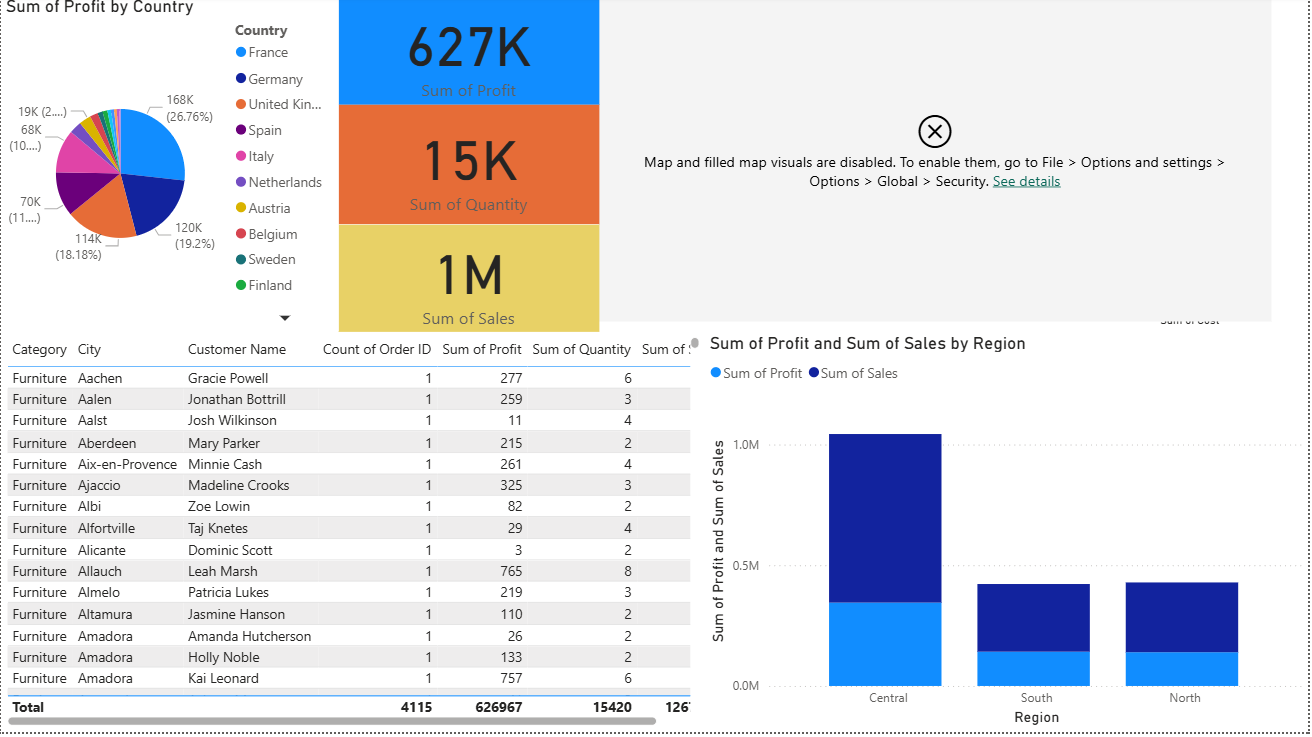

This screenshot's page, from the dashboard's own definition file:
{"tool":"powerbi","page":{"name":"Page 1","canvas":[1280,720],"ordinal":0},"visuals":[{"type":"barChart","fields":{"Category":["List of Orders.City"],"Y":["List of Orders.Cost"]},"box":[1021.7,0,221.7,328.3],"z":0},{"type":"tableEx","fields":{"Values":["List of Orders.Category","List of Orders.City","List of Orders.Customer Name","List of Orders.Order ID","List of Orders.Profit","List of Orders.Quantity","List of Orders.Sales"]},"box":[0,328.3,688.3,390],"z":1000},{"type":"map","fields":{"Category":["List of Orders.City"],"Series":["List of Orders.Country"]},"box":[585,0,658.3,318.3],"z":2000},{"type":"card","fields":{"Values":["List of Orders.Profit"]},"box":[330,0,255,106.7],"z":3000},{"type":"card","fields":{"Values":["List of Orders.Quantity"]},"box":[330,106.7,255,116.7],"z":4000},{"type":"card","fields":{"Values":["List of Orders.Sales"]},"box":[330,223.3,255,105],"z":5000},{"type":"columnChart","fields":{"Y":["List of Orders.Profit","List of Orders.Sales"],"Category":["List of Orders.Region"]},"box":[688.3,328.3,591.7,390],"z":6000},{"type":"pieChart","fields":{"Category":["List of Orders.Country"],"Y":["List of Orders.Profit"]},"box":[0,0,330,328.3],"z":7000}]}

Visuals, with their boxes in screenshot pixels (x1, y1, x2, y2), scaled from the page's 1280x720 canvas onto the 1312x737 screenshot:
barChart - List of Orders.City x List of Orders.Cost: 1047:0:1274:336
tableEx - List of Orders.Category x List of Orders.City: 0:336:706:735
map - List of Orders.City x List of Orders.Country: 600:0:1274:326
card - List of Orders.Profit: 338:0:600:109
card - List of Orders.Quantity: 338:109:600:229
card - List of Orders.Sales: 338:229:600:336
columnChart - List of Orders.Profit x List of Orders.Sales: 706:336:1311:735
pieChart - List of Orders.Country x List of Orders.Profit: 0:0:338:336
